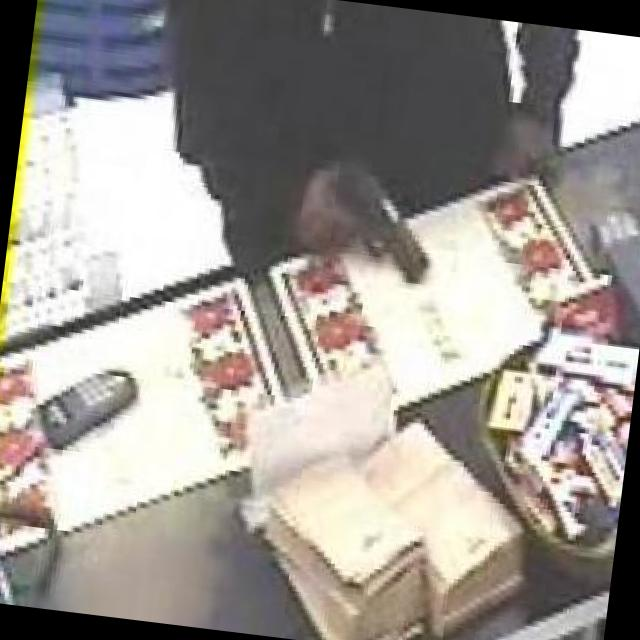Guns: (295, 135, 462, 292)
